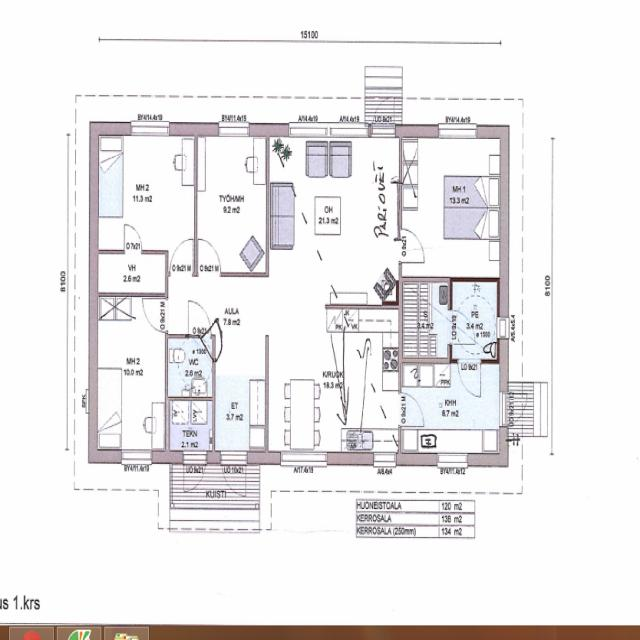door: (199, 319, 228, 362), (222, 452, 246, 500), (183, 452, 206, 498), (500, 394, 531, 426), (372, 91, 394, 136), (458, 359, 481, 396), (450, 311, 475, 345), (170, 238, 192, 276), (143, 299, 168, 332), (399, 393, 424, 426), (199, 240, 221, 276), (399, 211, 420, 239), (399, 183, 420, 211), (124, 225, 141, 254)
